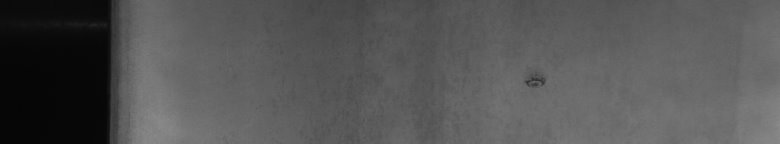fi: (524, 72, 551, 92)
